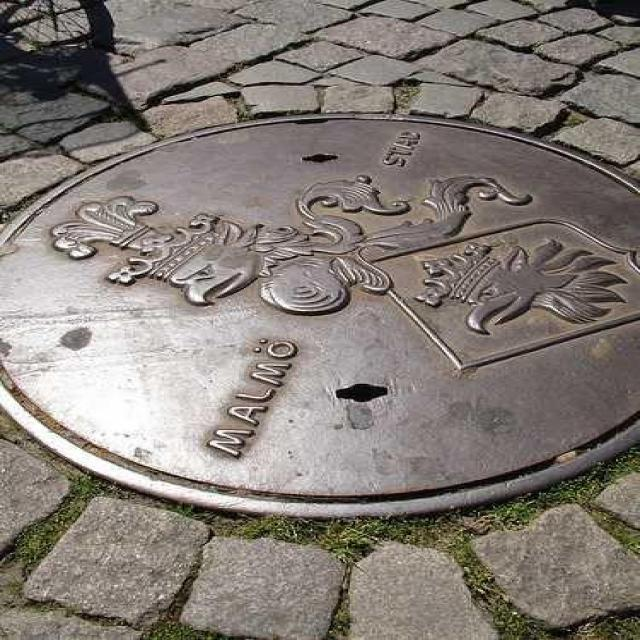manhole: (0, 113, 640, 521)
